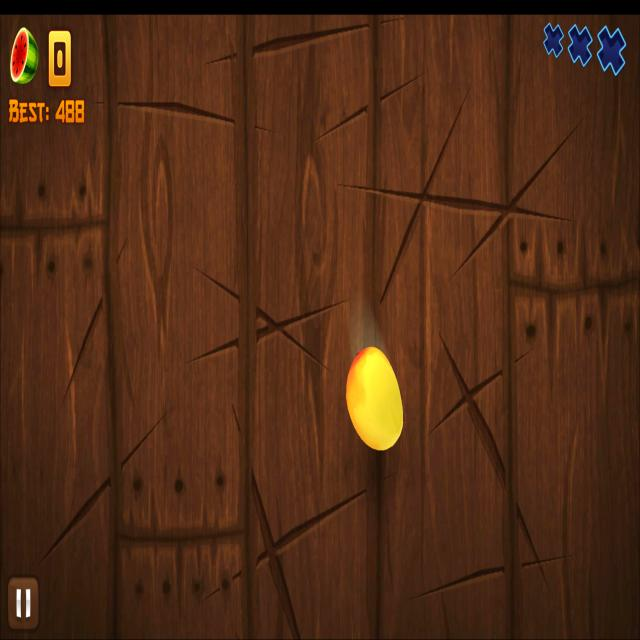fruit: (346, 346, 404, 452)
